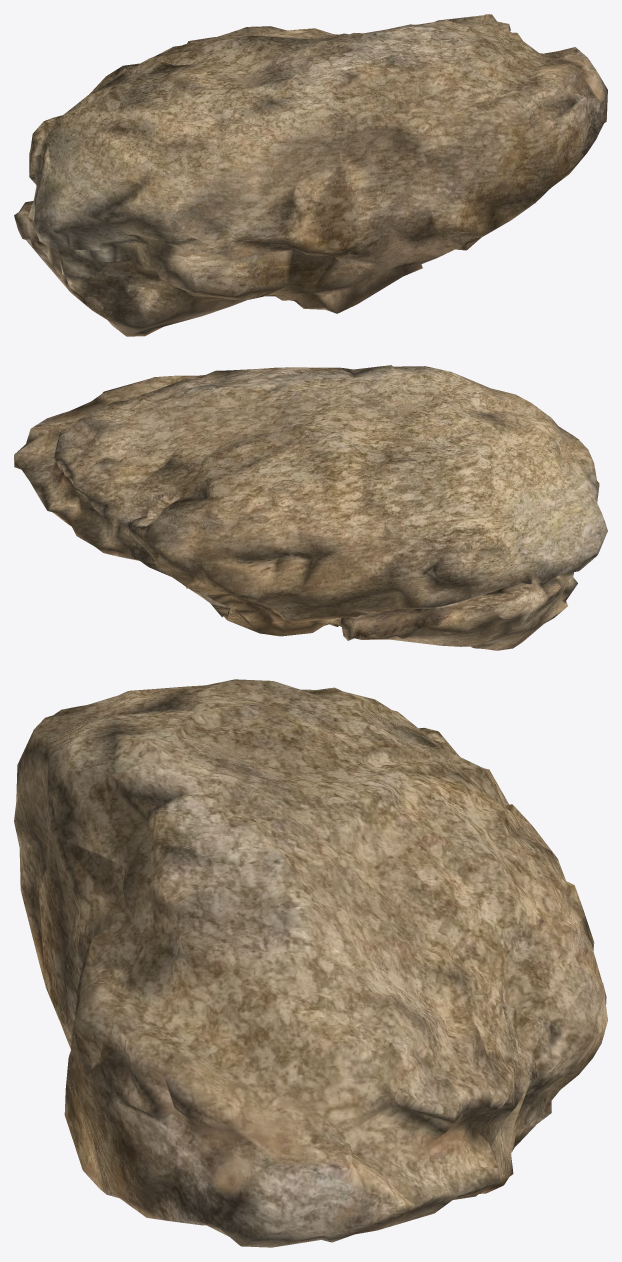
The model's file is boulder_c.glb.
3 views of the same model, one above another, from view 1: azimuth 30°, elevation 25°; view 2: azimuth 150°, elevation 25°; view 3: azimuth 270°, elevation 25° (orthographic). The views are drawn at different scales.
Visible parts, largest first — view 1: namaqualand_boulder_05; view 2: namaqualand_boulder_05; view 3: namaqualand_boulder_05.
Boxes of the visible parts, bbox=[...] form: namaqualand_boulder_05: bbox=[14, 14, 607, 336]; namaqualand_boulder_05: bbox=[14, 365, 607, 650]; namaqualand_boulder_05: bbox=[14, 679, 607, 1247].
Size of the model in its own units: 1.36 by 0.5338 by 0.7481.
1 material, 1 textured.
